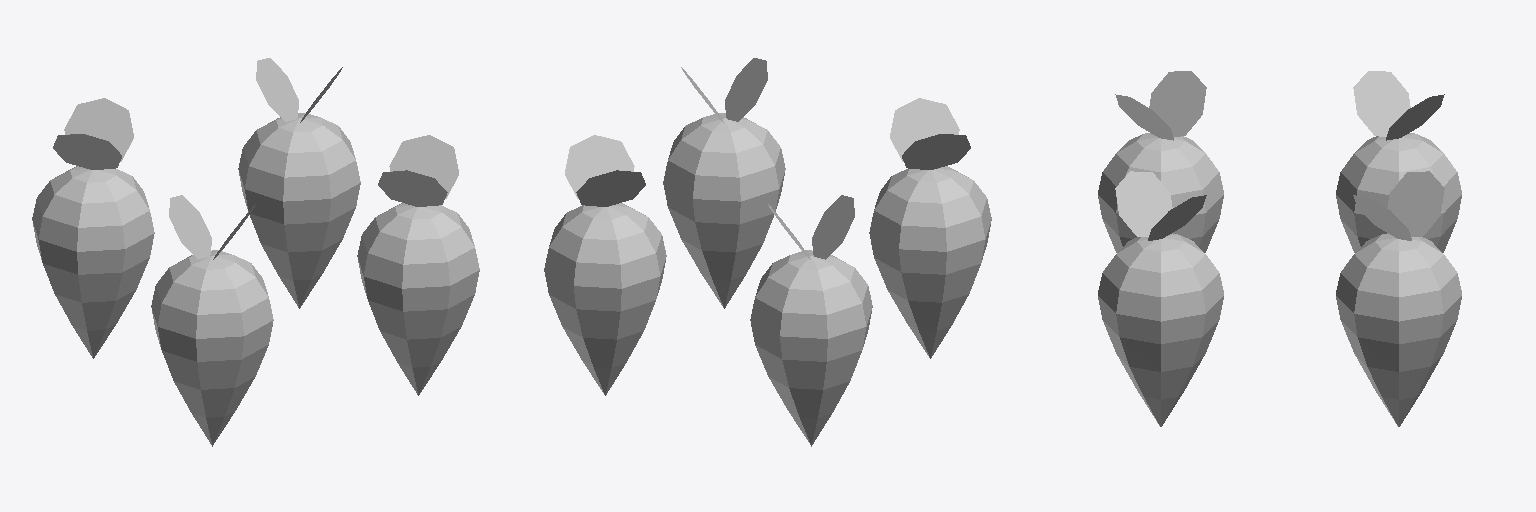
File: ripe.obj
The picture shows the model from 3 angles: view 1: azimuth 30°, elevation 25°; view 2: azimuth 150°, elevation 25°; view 3: azimuth 270°, elevation 25°; orthographic projection.
Visible parts, largest first — view 1: Ripe; view 2: Ripe; view 3: Ripe.
Part boxes in pixels (left/top/right/bottom): Ripe: left=32, top=58, right=479, bottom=446; Ripe: left=544, top=58, right=991, bottom=446; Ripe: left=1098, top=71, right=1461, bottom=426.
Size of the model in its own units: 0.46 by 0.3391 by 0.46.